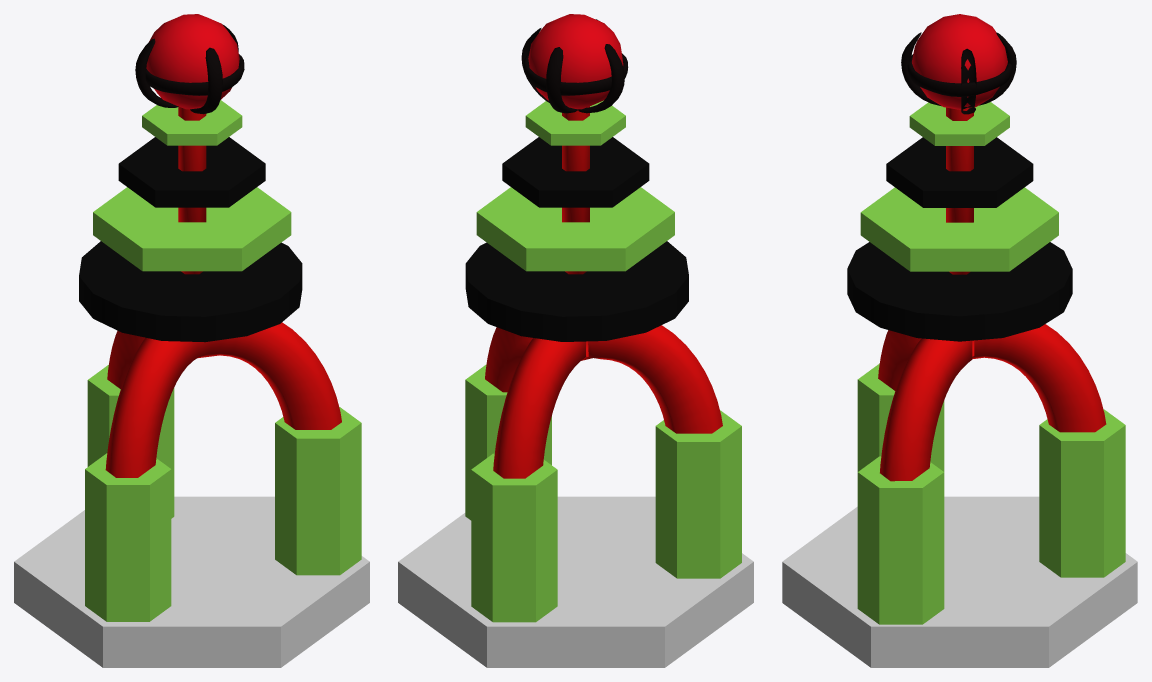
Rendered from Spread.glb.
3 views of the same model, side by side, from view 1: azimuth 30°, elevation 25°; view 2: azimuth 150°, elevation 25°; view 3: azimuth 270°, elevation 25° (orthographic).
Parts seen in each view (by area): view 1: Sphere.010; view 2: Sphere.010; view 3: Sphere.010.
Boxes of the visible parts, box(x1,y1,x2,y2) form: Sphere.010: box(14, 14, 369, 667); Sphere.010: box(398, 14, 753, 667); Sphere.010: box(782, 14, 1137, 667).
Size of the model in its own units: 1.59 by 3.34 by 1.84.
